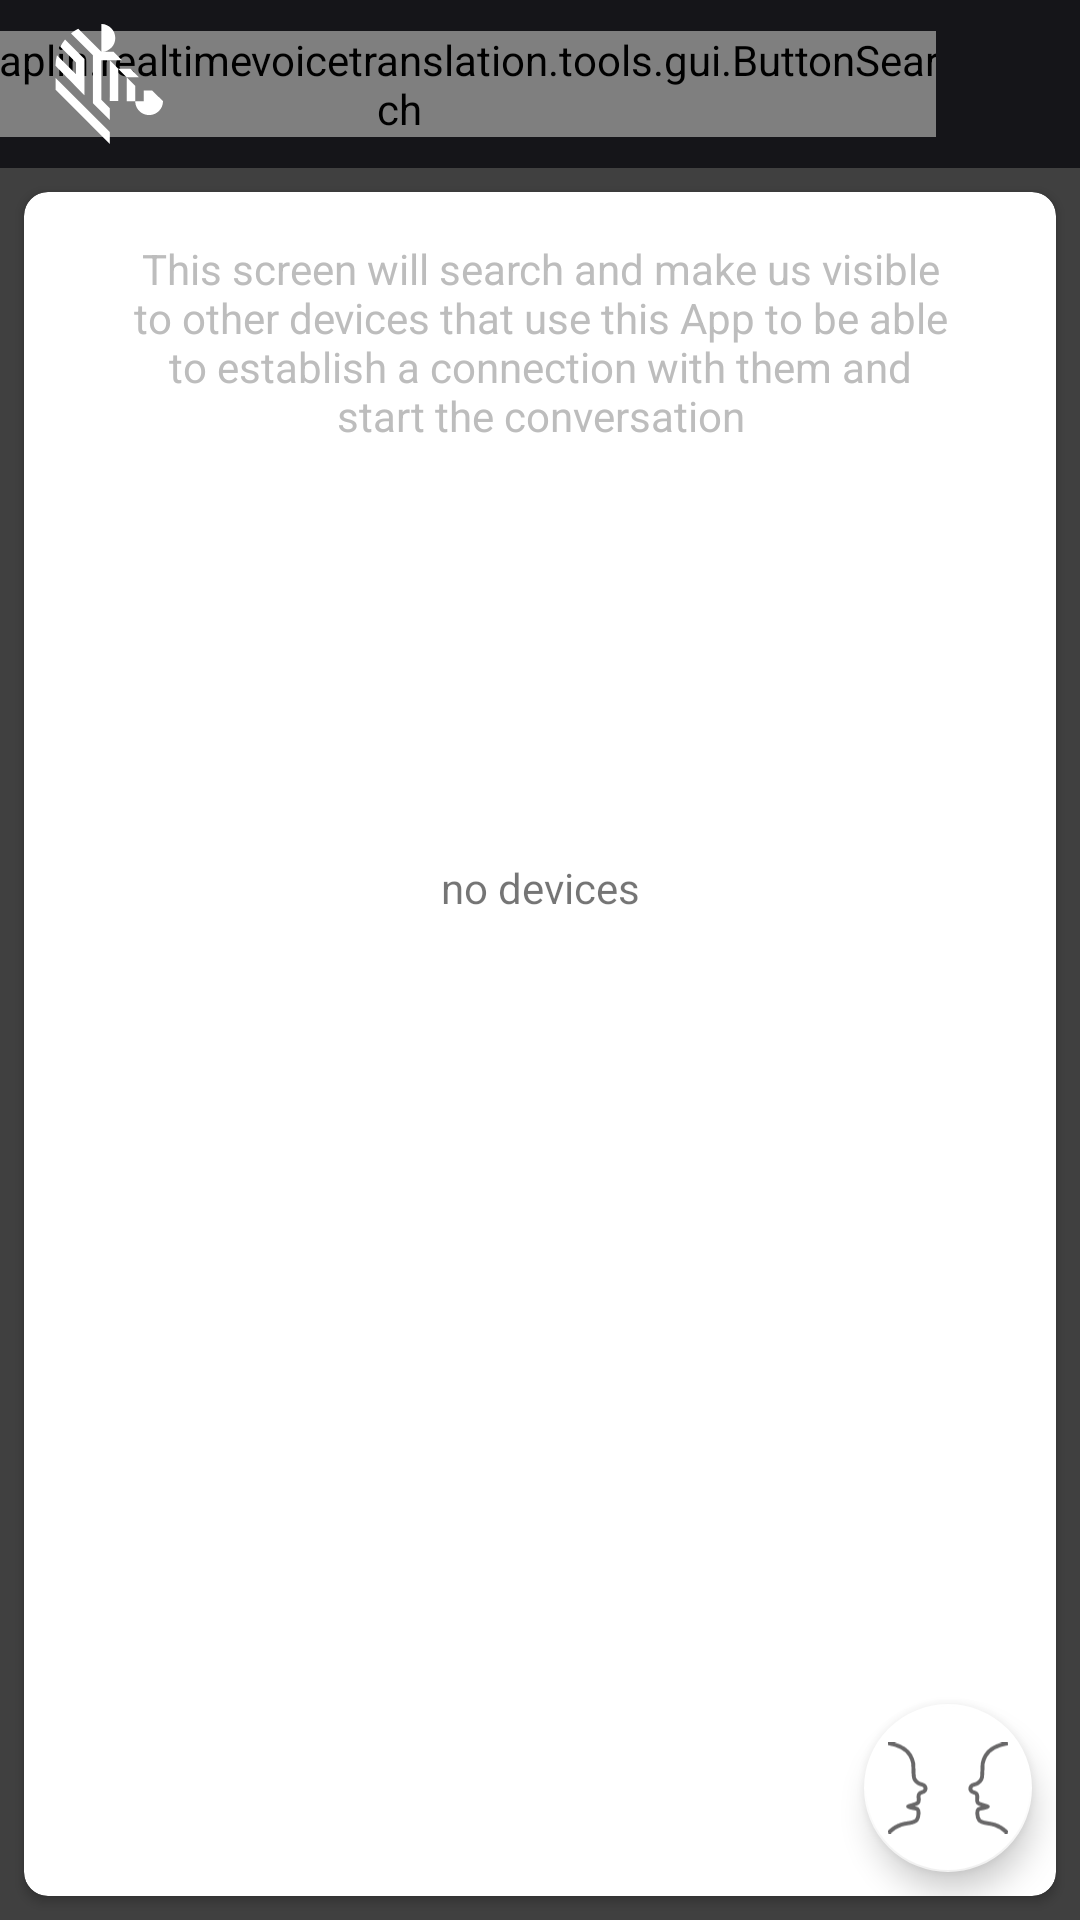

Where icons sit on this 1080 x 1920 app screen, as (x1,y1,x2,y2):
conversation: (869,1742,1008,1834)
